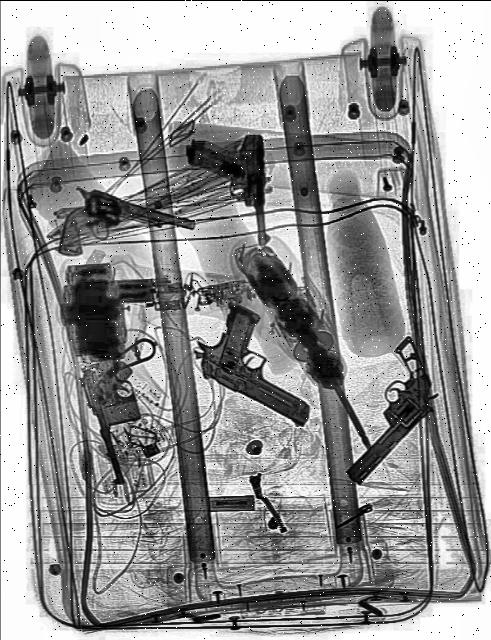Gun: (313, 332, 451, 490), (186, 288, 332, 426), (55, 181, 194, 291), (182, 130, 272, 252), (83, 354, 159, 486)
